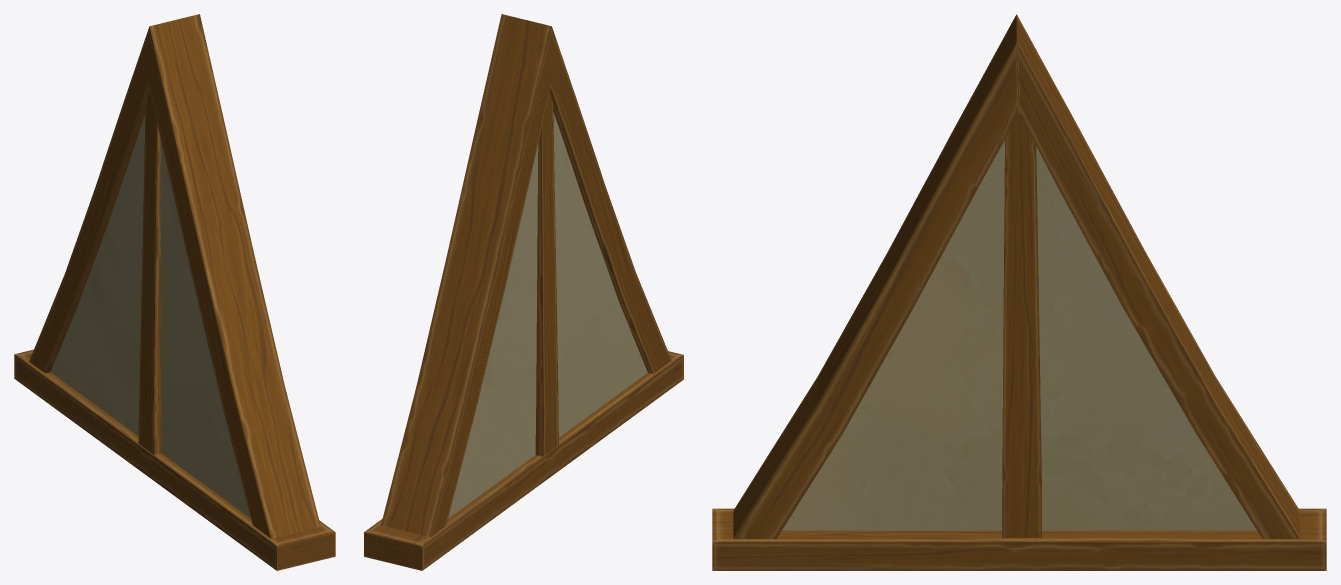
File: SM_House_Roof_01_WallTop_Extended_01.fbx
The picture shows the model from 3 angles, left to right: view 1: azimuth 30°, elevation 25°; view 2: azimuth 150°, elevation 25°; view 3: azimuth 270°, elevation 25°; orthographic projection. The views are drawn at different scales.
Visible parts, largest first — view 1: SM_House_Roof_01_WallTop_Extended_01; view 2: SM_House_Roof_01_WallTop_Extended_01; view 3: SM_House_Roof_01_WallTop_Extended_01.
Part boxes in pixels (<box>): SM_House_Roof_01_WallTop_Extended_01: <box>14,14,335,570</box>; SM_House_Roof_01_WallTop_Extended_01: <box>364,14,683,570</box>; SM_House_Roof_01_WallTop_Extended_01: <box>712,14,1326,570</box>.
Size of the model in its own units: 0.412 by 3.02 by 3.2.
